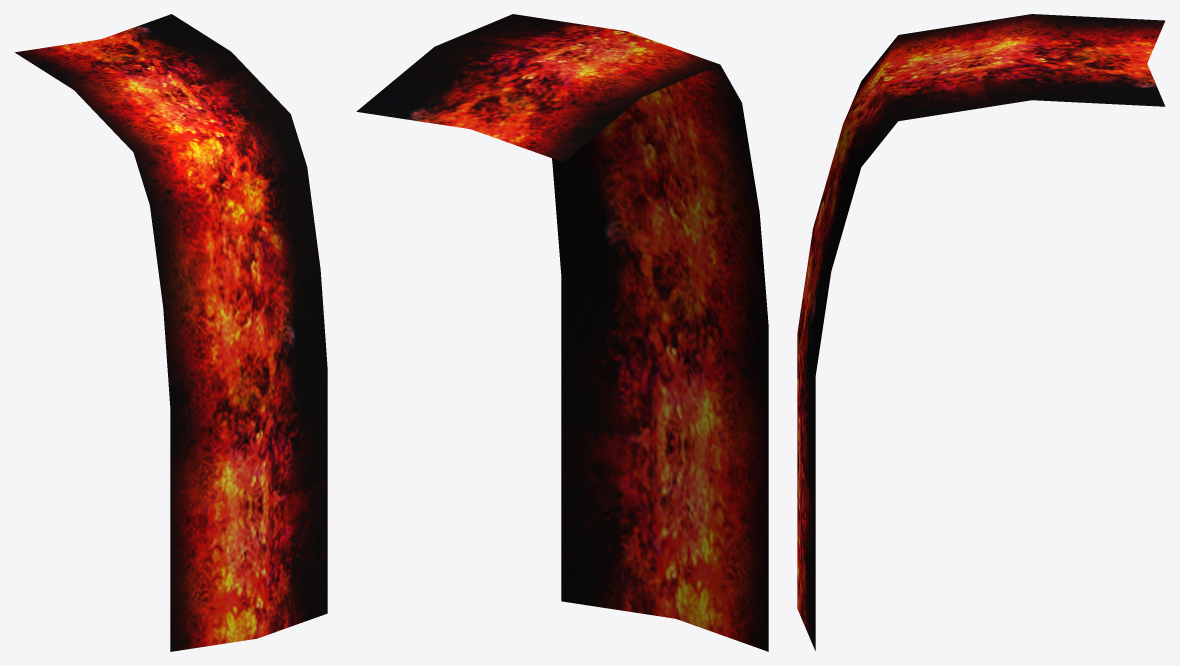
The model's file is S_Rock_Red060_Effect.FBX.
The picture shows the model from 3 angles, left to right: view 1: azimuth 30°, elevation 25°; view 2: azimuth 150°, elevation 25°; view 3: azimuth 270°, elevation 25°; orthographic projection. The views are drawn at different scales.
Visible parts, largest first — view 1: S_Rock_Red060_Effect; view 2: S_Rock_Red060_Effect; view 3: S_Rock_Red060_Effect.
Boxes of the visible parts, <box> form: S_Rock_Red060_Effect: <box>15,14,327,651</box>; S_Rock_Red060_Effect: <box>356,14,768,651</box>; S_Rock_Red060_Effect: <box>797,14,1165,650</box>.
Size of the model in its own units: 237 by 706 by 427.
